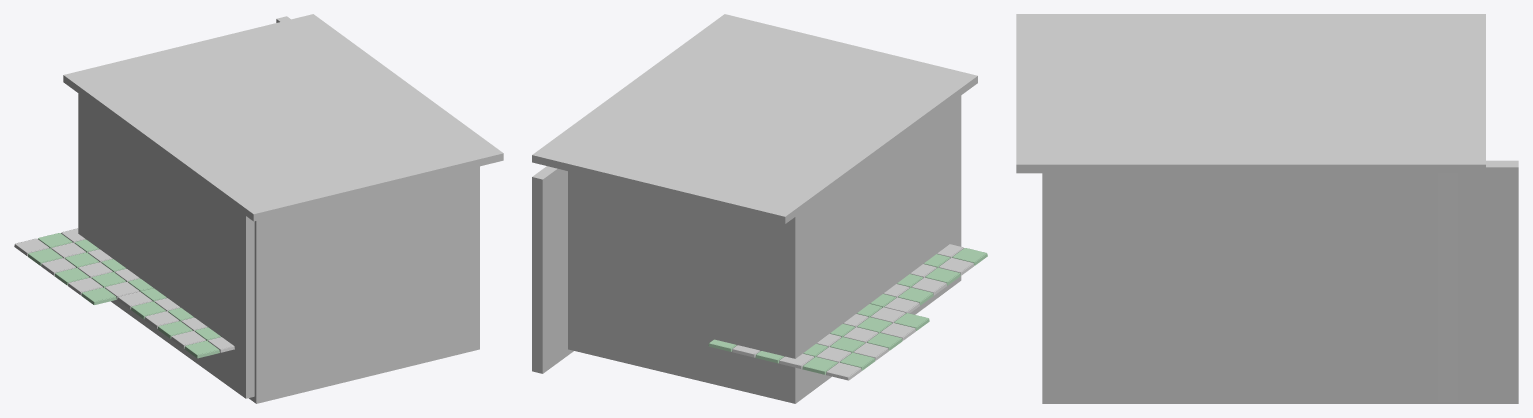
File: Kitchen.gltf
The picture shows the model from 3 angles, left to right: view 1: azimuth 30°, elevation 25°; view 2: azimuth 150°, elevation 25°; view 3: azimuth 270°, elevation 25°; orthographic projection. The views are drawn at different scales.
Parts seen in each view (by area): view 1: Floor.001, Wall, Wall.001, Floor tile.003, Floor tile.002; view 2: Wall.001, Floor.001, Wall, Floor tile.003, Floor tile.002; view 3: Wall, Floor.001, Wall.001.
Part boxes in pixels (x1,y1,x2,y2): Floor.001: (63,14,503,221); Wall: (249,16,479,403); Wall.001: (78,93,254,398); Floor tile.003: (14,228,152,304); Floor tile.002: (117,288,234,358); Wall.001: (568,95,961,403); Floor.001: (532,14,977,223); Wall: (532,166,573,373); Floor tile.003: (708,304,929,380); Floor tile.002: (870,244,987,313); Wall: (1042,160,1518,403); Floor.001: (1016,14,1485,173); Wall.001: (1438,173,1457,401).
Size of the model in its own units: 15.85 by 9.92 by 18.25.
